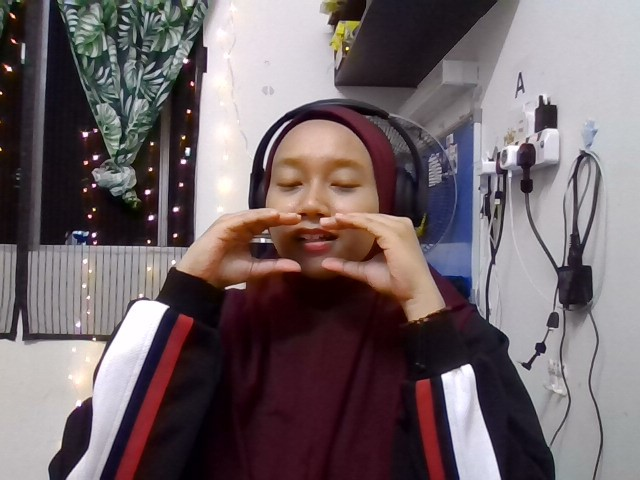Burger: (176, 207, 441, 300)
